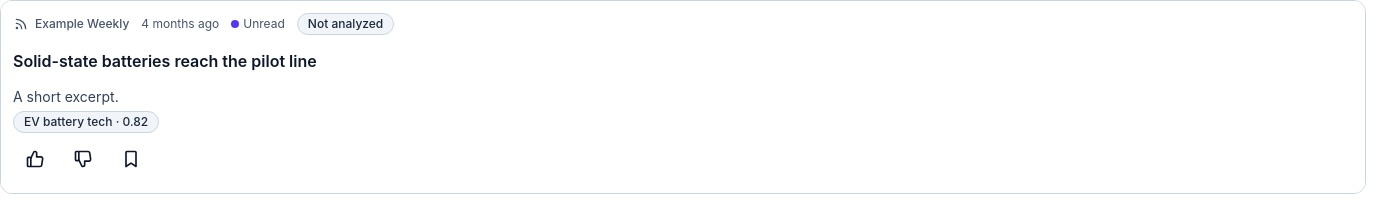
Test: the colour and the name of the action › shows them once the finger is past 15 % of the width
Press the mouse on the element named "Solid-state batteries reach the pilot line" at (683, 97), box top-left (0, 0), bottom-right (1366, 194)
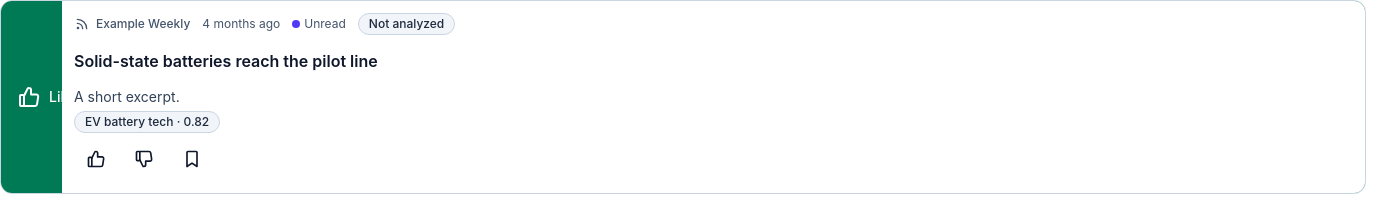
Result: the element showing "Like" is shown
Result: the text "Like" is shown at top-left (49, 87), bottom-right (76, 107)
Result: the icon next to "Like" is shown at top-left (17, 85), bottom-right (41, 109)
